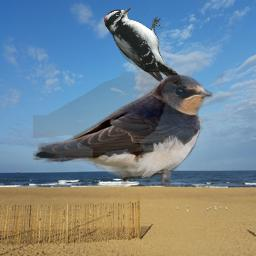Swallow: (33, 72, 213, 187)
Woodpecker: (104, 7, 182, 86)
